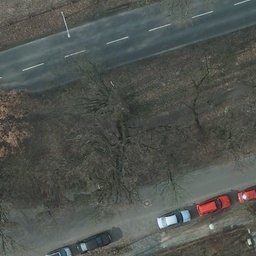car: (76, 229, 112, 253), (196, 196, 229, 218), (158, 209, 190, 227), (237, 190, 256, 204)
